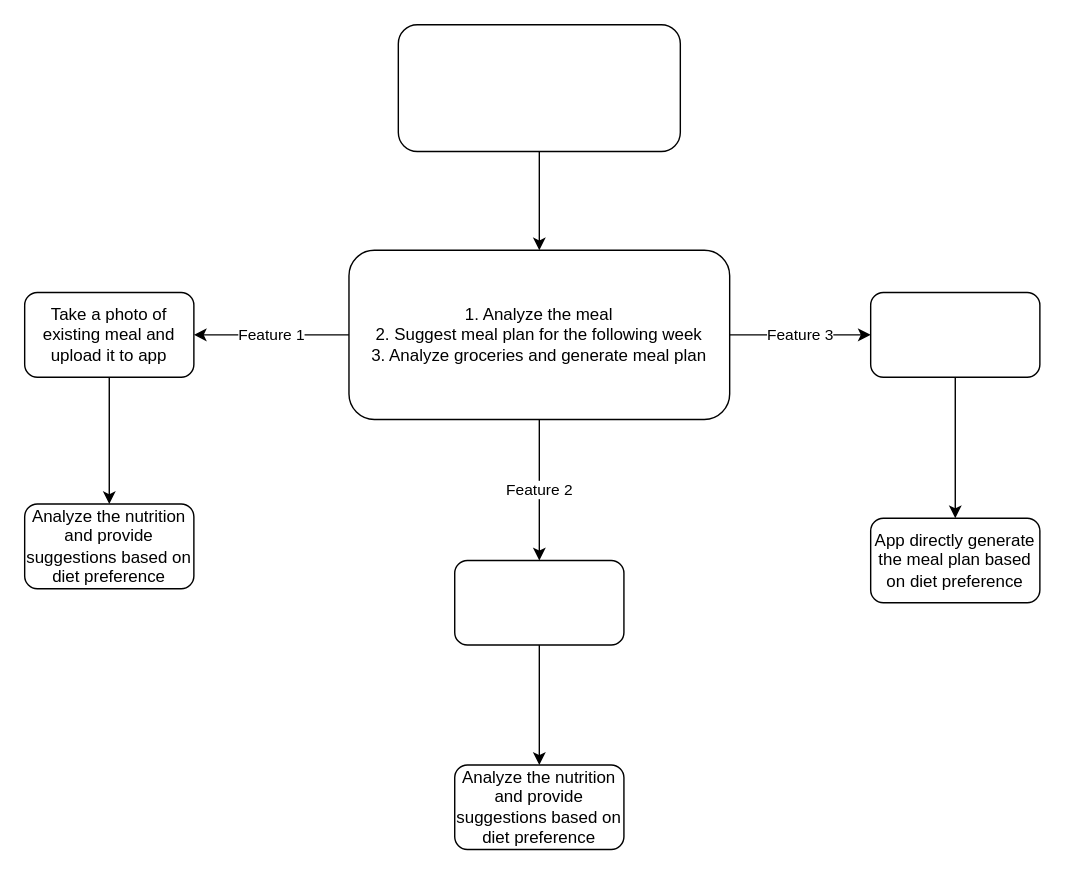
Image size: 1065x874. Some labels were removed from this diagram. Here are the shapes that lost their labels. From the top down, the centre of each, then its label:
At point (538, 87): "Registration Fill height, weight, goal, and diet preference".
At point (954, 334): "User clicks the generate button".
At point (538, 602): "Take a photo of groceries market and upload it to app".
